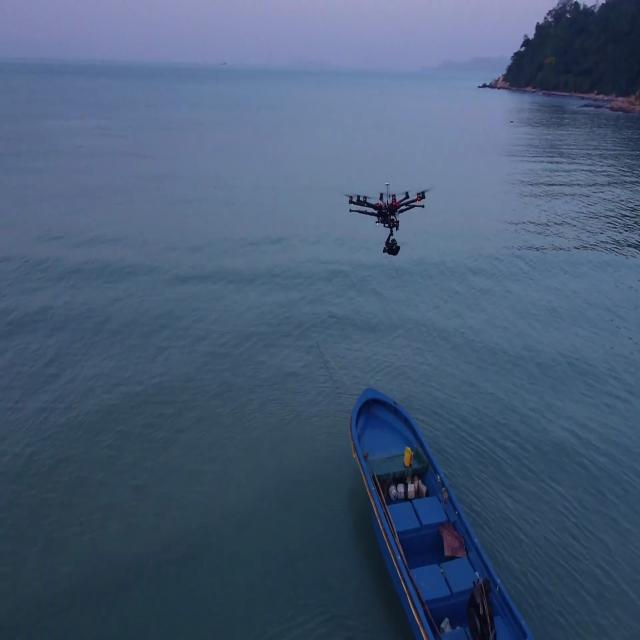drone: (343, 170, 431, 266)
